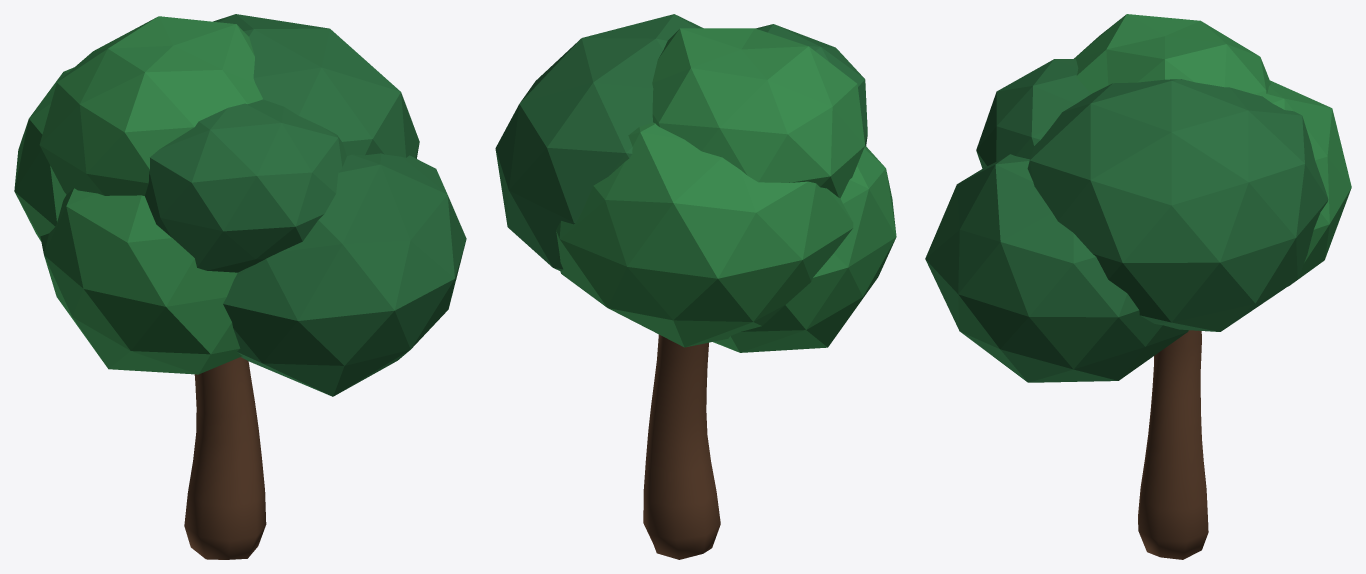
Rendered from tree_0.glb.
The picture shows the model from 3 angles, left to right: view 1: azimuth 30°, elevation 25°; view 2: azimuth 150°, elevation 25°; view 3: azimuth 270°, elevation 25°; orthographic projection. The views are drawn at different scales.
Parts seen in each view (by area): view 1: Tree0; view 2: Tree0; view 3: Tree0.
Boxes of the visible parts, x1,y1,x2,y2 form: Tree0: (14, 14, 466, 559); Tree0: (495, 14, 896, 559); Tree0: (925, 14, 1351, 559).
Bounding box in the file's own units: 2.72 × 4 × 3.09.
